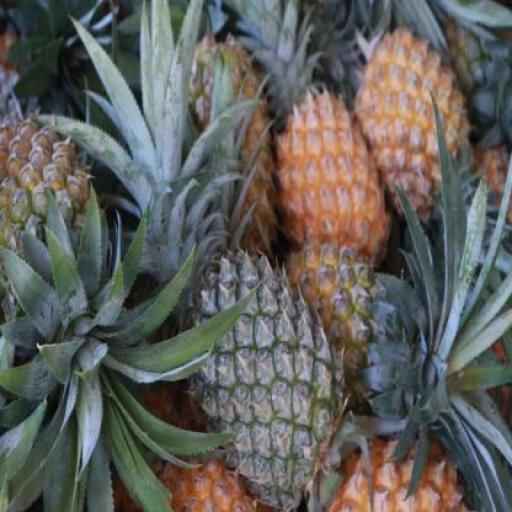------------------------------: (0, 114, 102, 340)
Pineapple - v8 v1: (355, 35, 468, 242), (274, 90, 388, 272)
